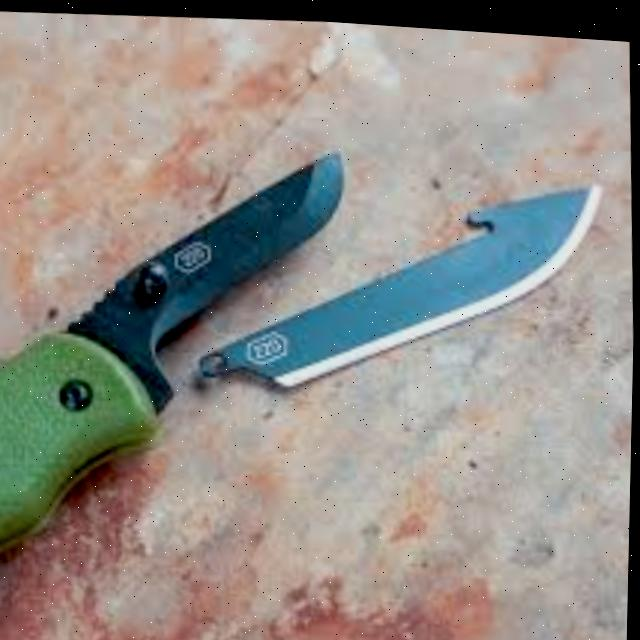Knife: (0, 125, 359, 616), (188, 150, 609, 407)
